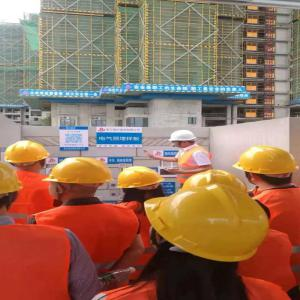white: (167, 130, 198, 148)
yellow: (149, 186, 271, 272), (46, 155, 110, 198), (236, 146, 300, 187), (117, 163, 164, 196), (2, 161, 28, 216), (5, 142, 51, 172)
